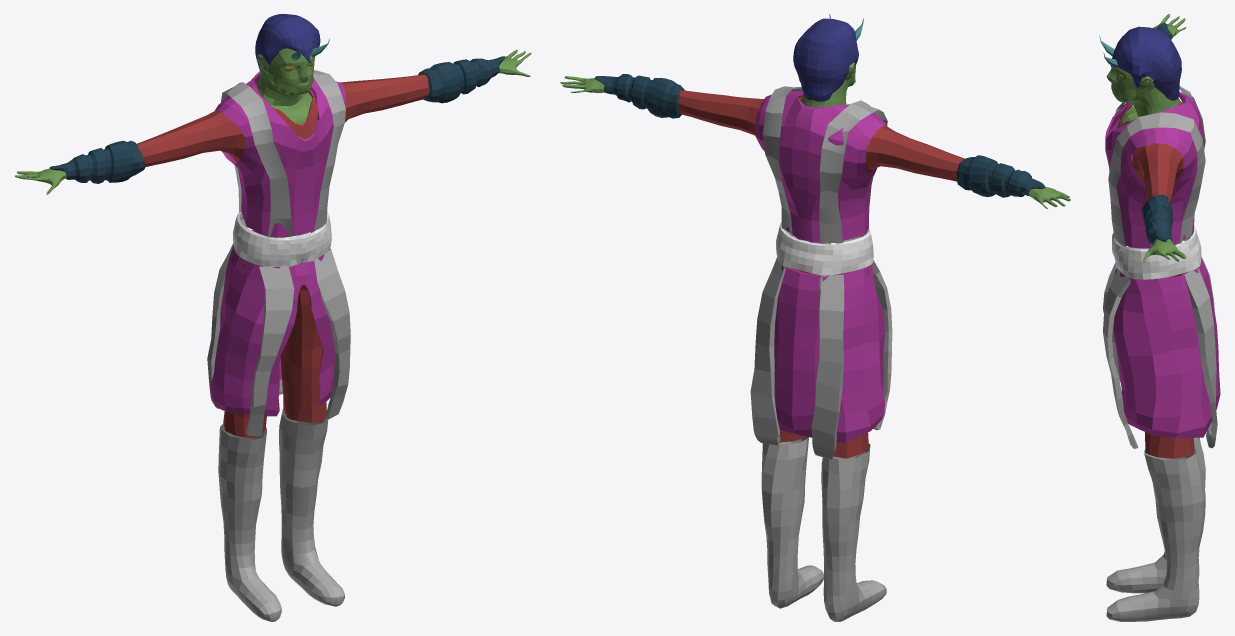
The model's file is triton.fbx.
3 views of the same model, side by side, from view 1: azimuth 30°, elevation 25°; view 2: azimuth 150°, elevation 25°; view 3: azimuth 270°, elevation 25° (orthographic). The views are drawn at different scales.
Parts seen in each view (by area): view 1: bata, botas, chaleco, remera, brazaletes2, cara_mano, cinturon, pelo3; view 2: bata, chaleco, botas, remera, brazaletes2, pelo3, cinturon, cara_mano; view 3: bata, botas, chaleco, pelo3, remera, cara_mano, cinturon, brazaletes2.
Part boxes in pixels (x1,y1,x2,y2): bata: [210, 71, 345, 416]; botas: [218, 408, 344, 621]; chaleco: [207, 70, 350, 436]; remera: [136, 74, 429, 438]; brazaletes2: [49, 56, 505, 183]; cara_mano: [14, 48, 531, 194]; cinturon: [233, 212, 331, 266]; pelo3: [255, 14, 320, 71]; bata: [755, 91, 887, 443]; chaleco: [750, 86, 892, 459]; botas: [761, 436, 886, 621]; remera: [678, 90, 964, 458]; brazaletes2: [595, 74, 1045, 197]; pelo3: [793, 18, 858, 101]; cinturon: [776, 222, 873, 275]; cara_mano: [560, 62, 1070, 208]; bata: [1105, 91, 1220, 438]; botas: [1106, 437, 1205, 621]; chaleco: [1103, 86, 1217, 448]; pelo3: [1110, 26, 1181, 100]; remera: [1117, 98, 1194, 458]; cara_mano: [1106, 14, 1186, 262]; cinturon: [1112, 225, 1201, 279]; brazaletes2: [1141, 23, 1172, 244].
Size of the model in its own units: 2.03 by 2.23 by 0.4244.
